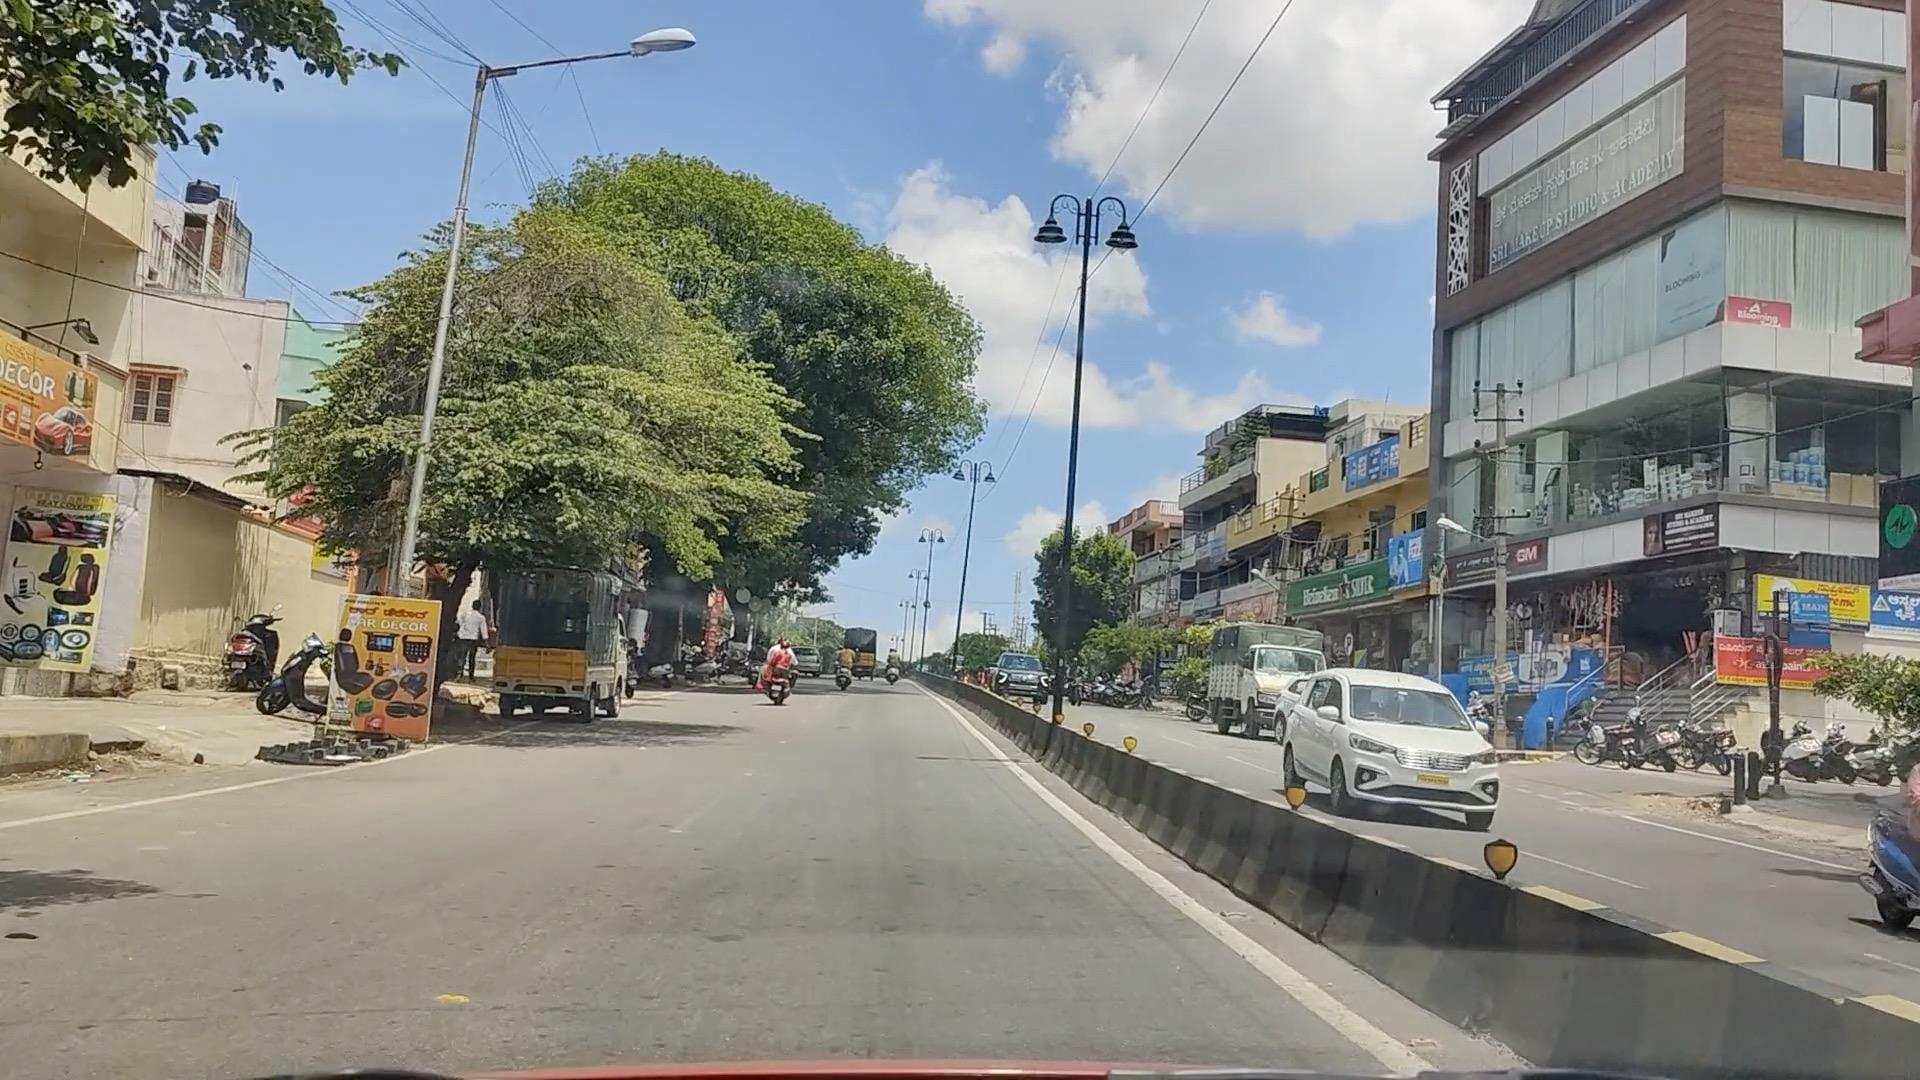HMV: (487, 557, 633, 721)
LMV: (760, 627, 803, 709)
